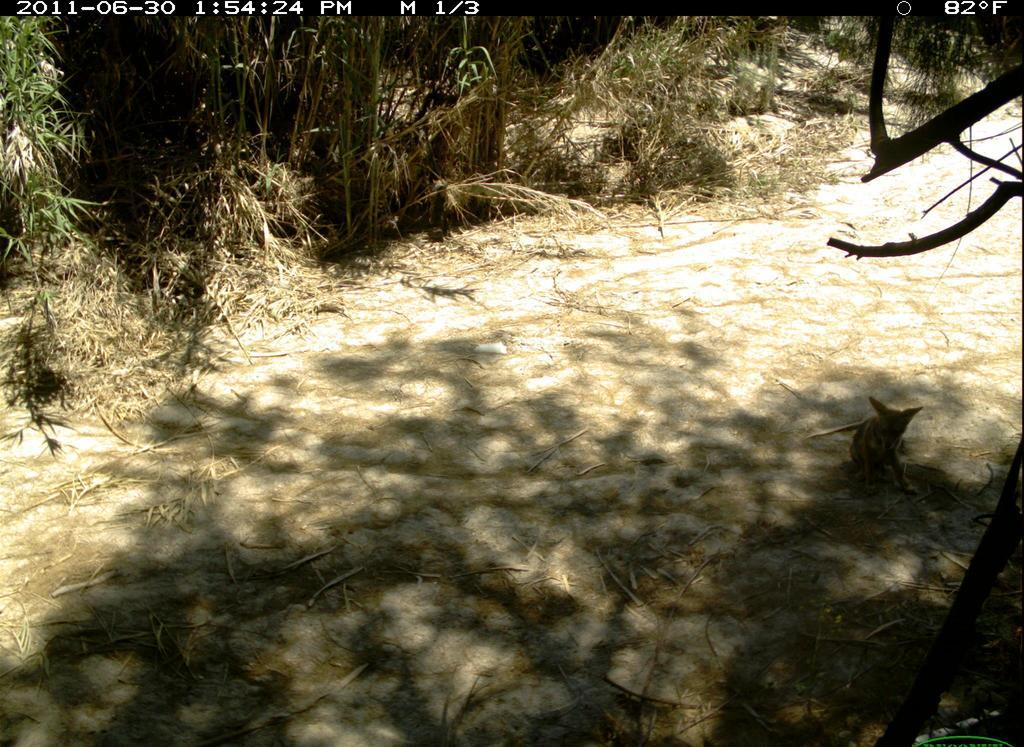coyote: (836, 369, 934, 536)
